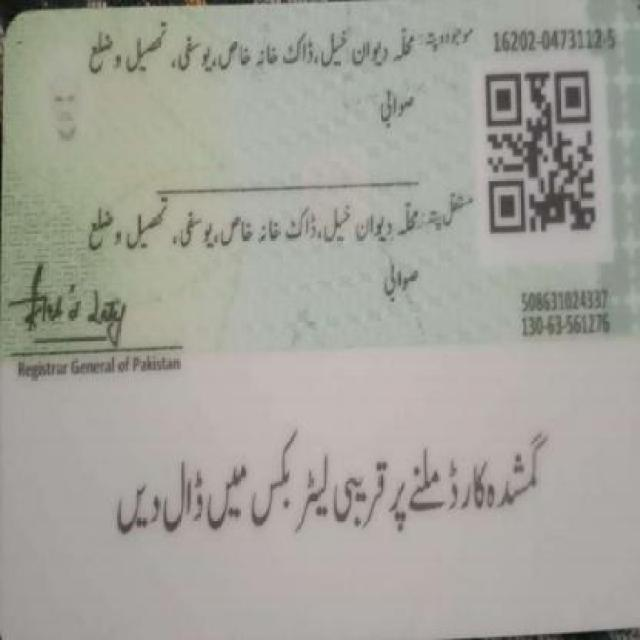Back: (3, 8, 625, 634)
